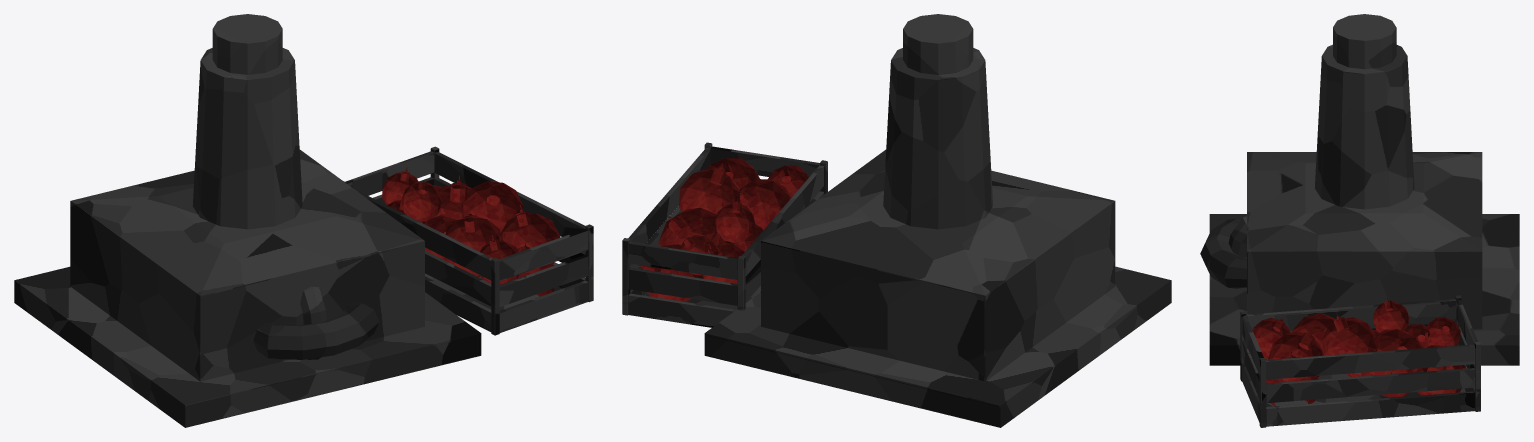
File: Bomb_static.glb
3 views of the same model, side by side, from view 1: azimuth 30°, elevation 25°; view 2: azimuth 150°, elevation 25°; view 3: azimuth 270°, elevation 25° (orthographic). The views are drawn at different scales.
Parts seen in each view (by area): view 1: Cylinder, Cube; view 2: Cylinder, Cube; view 3: Cylinder, Cube.
Part boxes in pixels (left/top/right/bottom): Cylinder: left=14, top=14, right=481, bottom=427; Cube: left=343, top=146, right=593, bottom=335; Cylinder: left=704, top=14, right=1171, bottom=427; Cube: left=622, top=142, right=827, bottom=327; Cylinder: left=1200, top=14, right=1519, bottom=365; Cube: left=1240, top=295, right=1480, bottom=427.
Size of the model in its own units: 4.28 by 2.87 by 2.99.
Materials: 3 (3 with a texture image).
